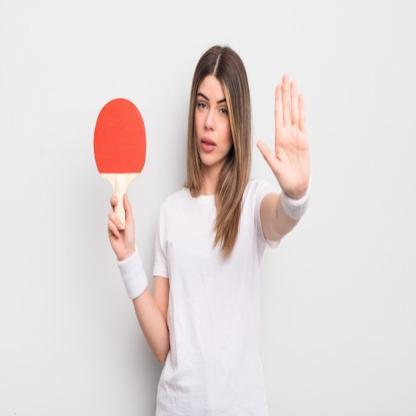stop: (256, 66, 312, 202)
